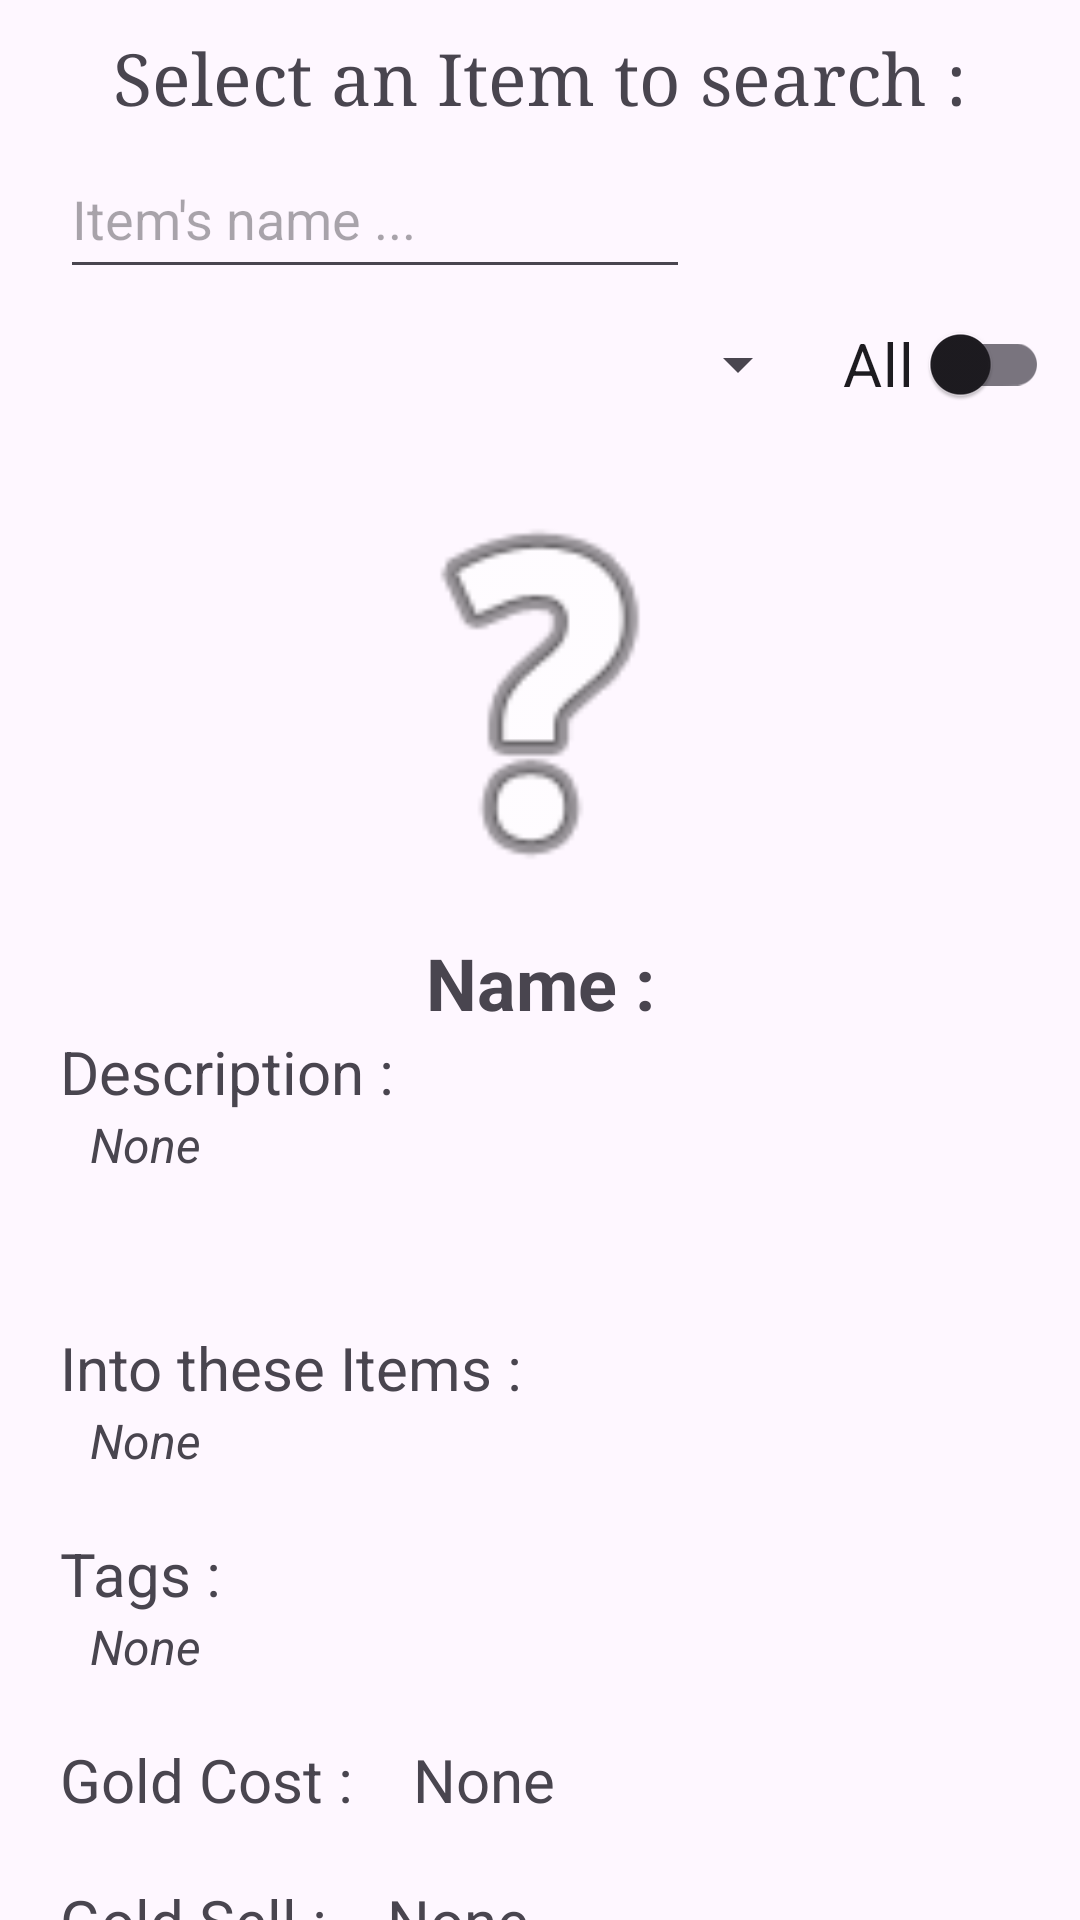

Icon bounding boxes for this 1080x1920 phone screenshot, format {"left": x1, "top": y1, "right": x2, "bottom": y2}:
help: {"left": 441, "top": 532, "right": 639, "bottom": 856}
